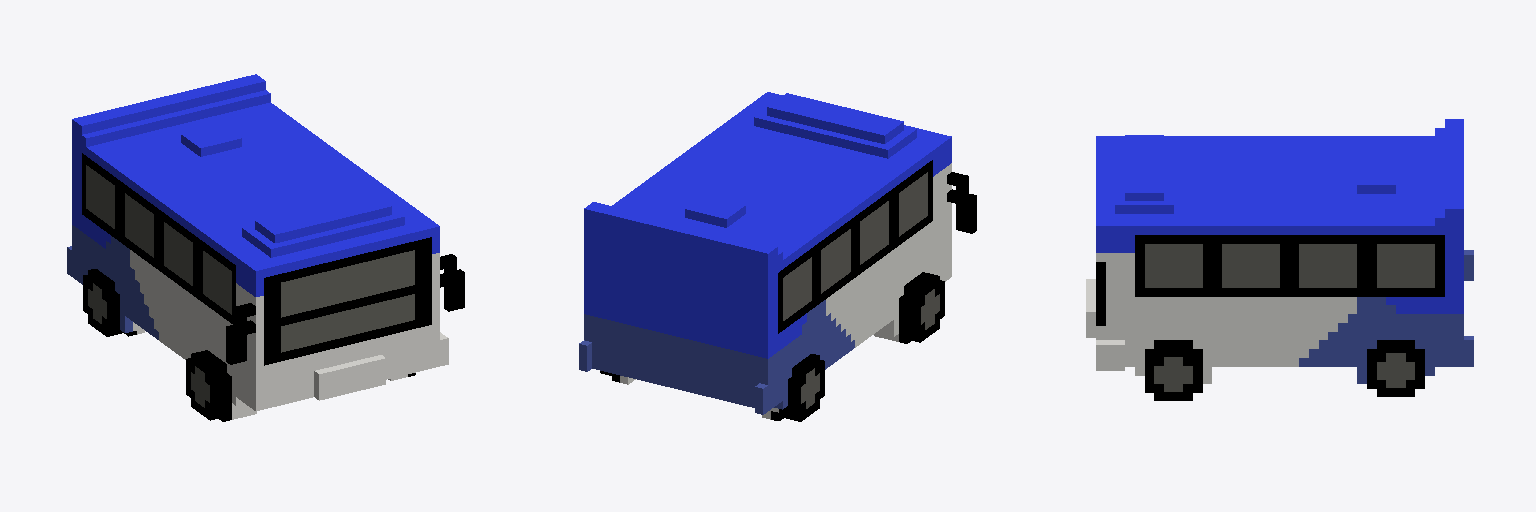
3 renders of one model, left to right at view 1: azimuth 30°, elevation 25°; view 2: azimuth 150°, elevation 25°; view 3: azimuth 270°, elevation 25°, orthographic.
Parts seen in each view (by area): view 1: object 1; view 2: object 1; view 3: object 1.
Part boxes in pixels (x1,y1,x2,y2): object 1: (67, 74, 464, 421); object 1: (579, 92, 976, 421); object 1: (1086, 119, 1473, 400).
Bounding box in the file's own units: 2.8 × 2.1 × 4.
1 materials, 1 textured.